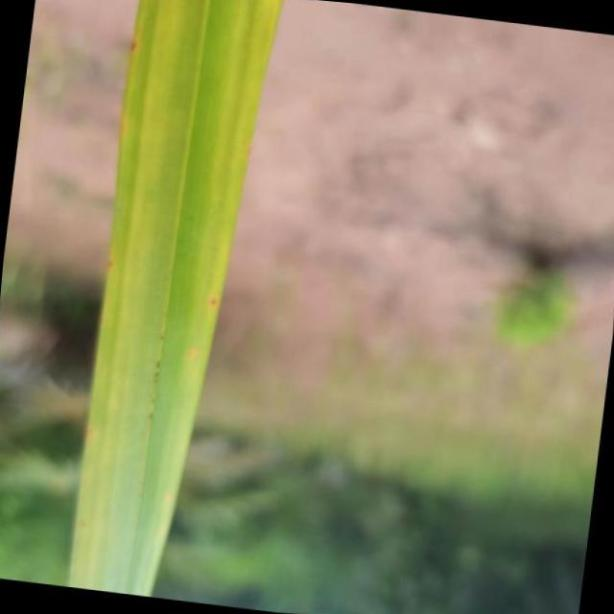nitrogen: (67, 0, 275, 614)
